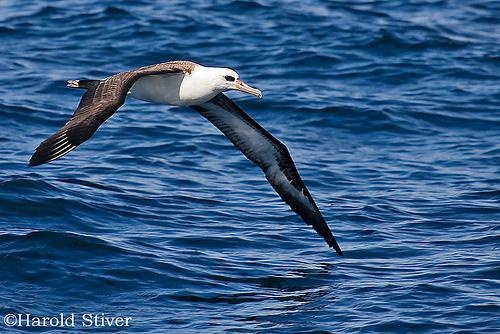bird: (30, 59, 344, 257)
